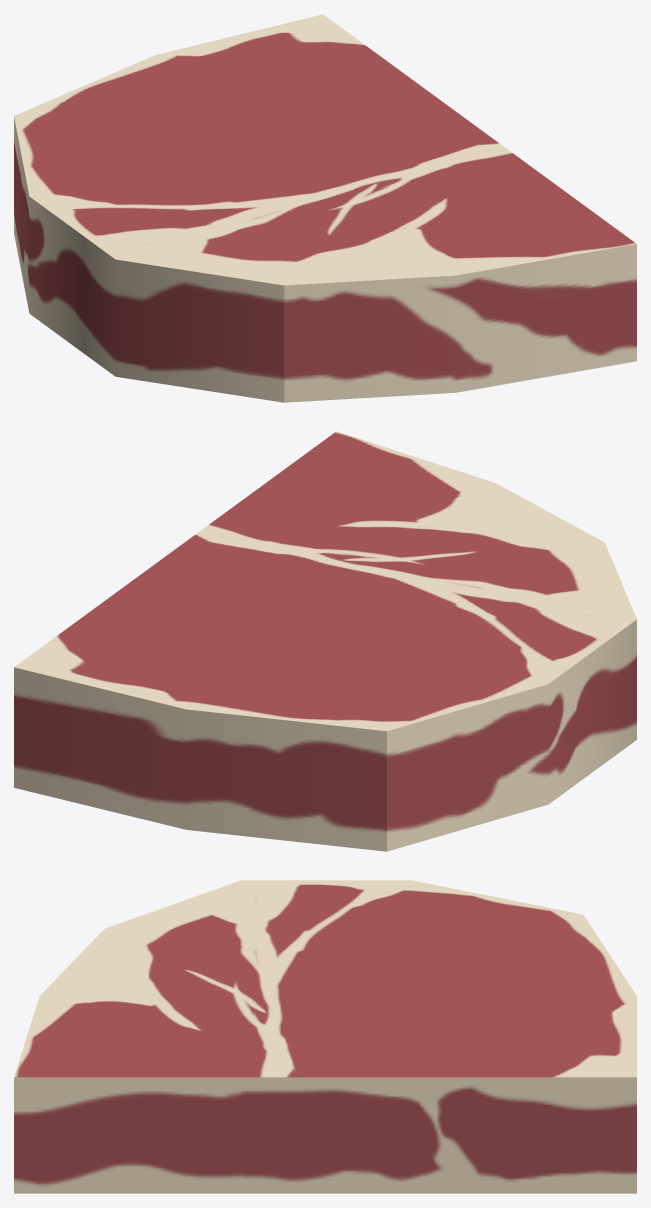
File: Asset_Ingr_Meat_State_3.FBX
3 views of the same model, one above another, from view 1: azimuth 30°, elevation 25°; view 2: azimuth 150°, elevation 25°; view 3: azimuth 270°, elevation 25° (orthographic). The views are drawn at different scales.
Parts seen in each view (by area): view 1: Meat_state_2; view 2: Meat_state_2; view 3: Meat_state_2.
Part boxes in pixels (<box>): Meat_state_2: <box>14,14,636,402</box>; Meat_state_2: <box>14,431,636,851</box>; Meat_state_2: <box>14,880,636,1193</box>.
Size of the model in its own units: 7.26 by 2 by 9.71.
1 material, 1 textured.
